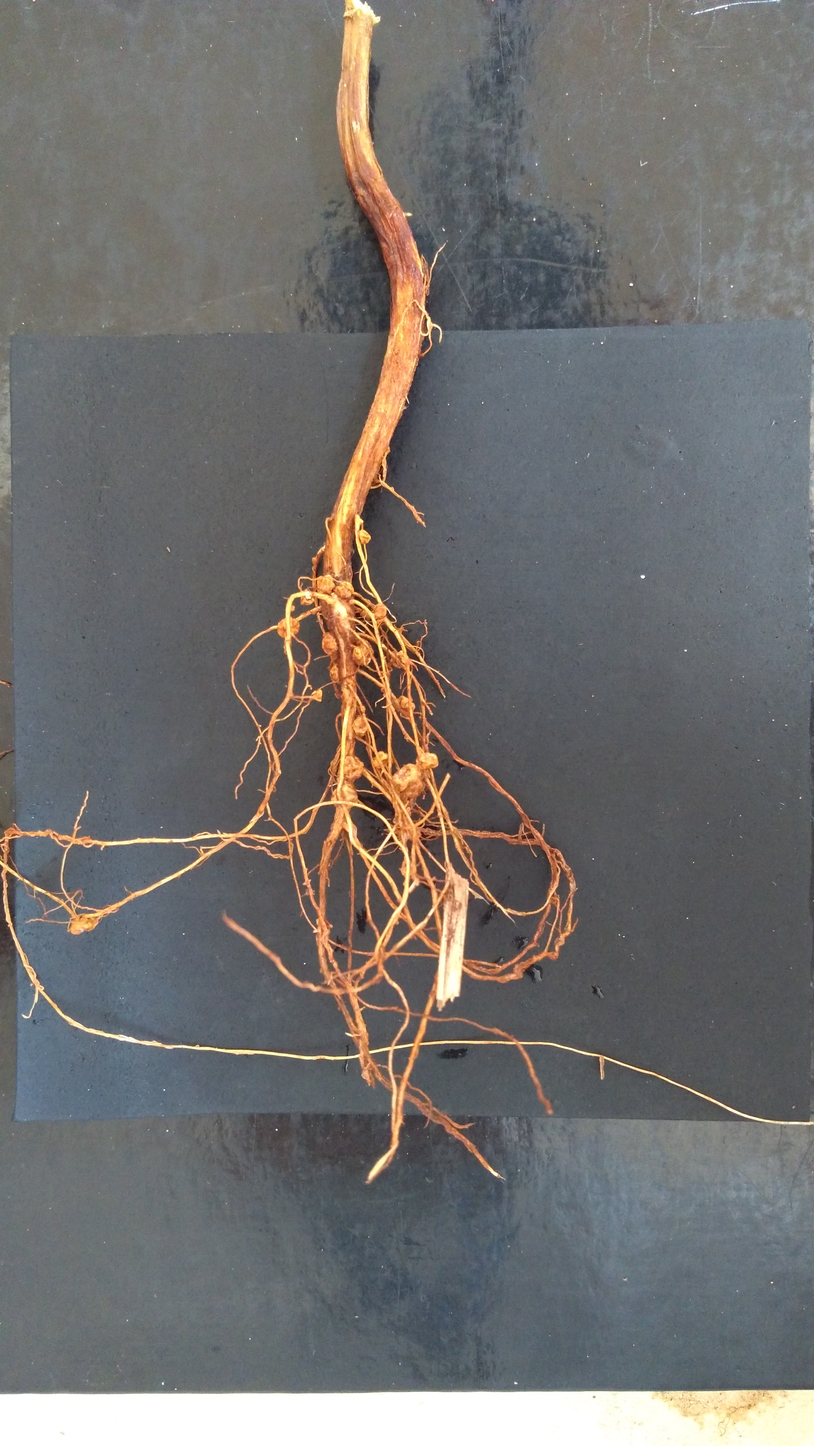nodule: (392, 762, 427, 800), (67, 912, 99, 938), (330, 784, 359, 812), (351, 636, 375, 667), (341, 755, 365, 784), (275, 615, 300, 638), (350, 716, 372, 739), (319, 631, 339, 656), (397, 694, 416, 720), (414, 751, 440, 770), (371, 750, 394, 770), (315, 575, 336, 596), (334, 579, 355, 600), (390, 650, 410, 671), (372, 602, 388, 621), (358, 529, 372, 545), (310, 688, 324, 703), (299, 594, 315, 607), (329, 664, 340, 681), (311, 556, 319, 565), (360, 705, 365, 713), (290, 605, 295, 611)
